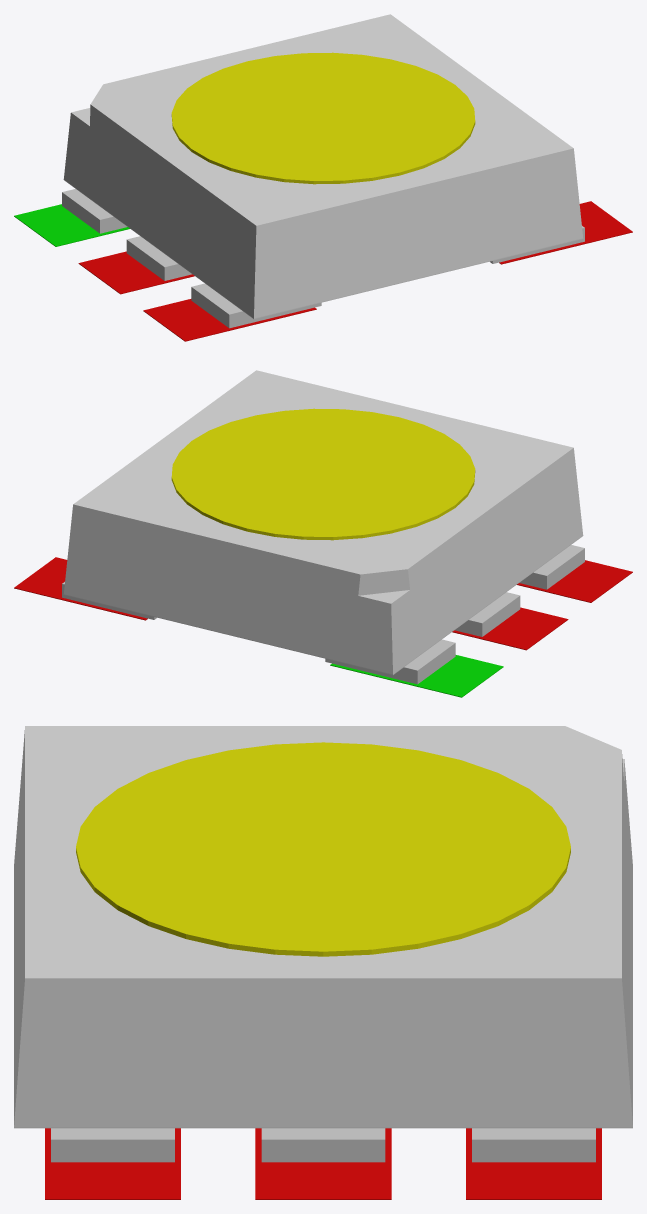
File: test-led.glb
3 renders of one model, top to bottom at view 1: azimuth 30°, elevation 25°; view 2: azimuth 150°, elevation 25°; view 3: azimuth 270°, elevation 25°, orthographic. The views are drawn at different scales.
Visible parts, largest first — view 1: JSCADMesh_6, JSCADMesh_7, JSCADMesh_12, JSCADMesh_10, JSCADMesh_8, JSCADMesh_0, JSCADMesh_13, JSCADMesh_2, JSCADMesh_4; view 2: JSCADMesh_6, JSCADMesh_7, JSCADMesh_8, JSCADMesh_10, JSCADMesh_12, JSCADMesh_4, JSCADMesh_9, JSCADMesh_2, JSCADMesh_0; view 3: JSCADMesh_6, JSCADMesh_7, JSCADMesh_11, JSCADMesh_9, JSCADMesh_13, JSCADMesh_3, JSCADMesh_1, JSCADMesh_5.
Boxes of the visible parts, bbox=[...] form: JSCADMesh_6: bbox=[63, 14, 583, 318]; JSCADMesh_7: bbox=[171, 52, 475, 184]; JSCADMesh_12: bbox=[143, 299, 316, 341]; JSCADMesh_10: bbox=[78, 251, 194, 294]; JSCADMesh_8: bbox=[14, 204, 129, 246]; JSCADMesh_0: bbox=[191, 283, 321, 328]; JSCADMesh_13: bbox=[499, 201, 632, 264]; JSCADMesh_2: bbox=[126, 236, 191, 280]; JSCADMesh_4: bbox=[62, 189, 127, 233]; JSCADMesh_6: bbox=[63, 370, 583, 674]; JSCADMesh_7: bbox=[171, 408, 475, 540]; JSCADMesh_8: bbox=[330, 655, 503, 697]; JSCADMesh_10: bbox=[452, 607, 568, 650]; JSCADMesh_12: bbox=[517, 560, 632, 602]; JSCADMesh_4: bbox=[325, 639, 455, 684]; JSCADMesh_9: bbox=[14, 557, 147, 620]; JSCADMesh_2: bbox=[455, 592, 520, 636]; JSCADMesh_0: bbox=[519, 545, 584, 589]; JSCADMesh_6: bbox=[14, 726, 632, 1128]; JSCADMesh_7: bbox=[76, 742, 570, 956]; JSCADMesh_11: bbox=[255, 1128, 391, 1199]; JSCADMesh_9: bbox=[466, 1128, 601, 1199]; JSCADMesh_13: bbox=[45, 1128, 180, 1199]; JSCADMesh_3: bbox=[261, 1128, 385, 1162]; JSCADMesh_1: bbox=[51, 1128, 174, 1162]; JSCADMesh_5: bbox=[472, 1128, 595, 1162].
Bounding box in the file's own units: 6.8 × 1.56 × 5.
